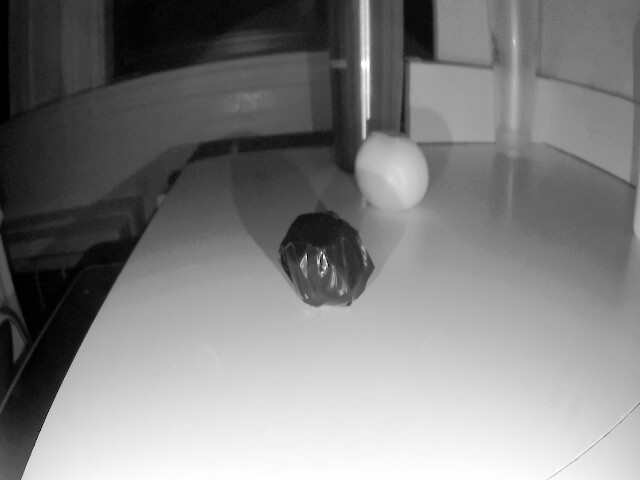black: (276, 213, 380, 274)
